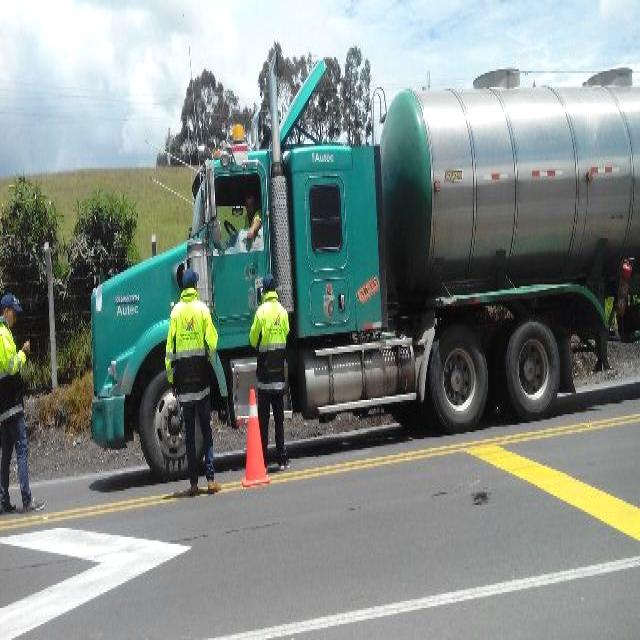TRUCK: (85, 54, 639, 448)
